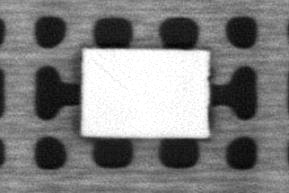DIE_CRACK: (90, 55, 128, 90)
